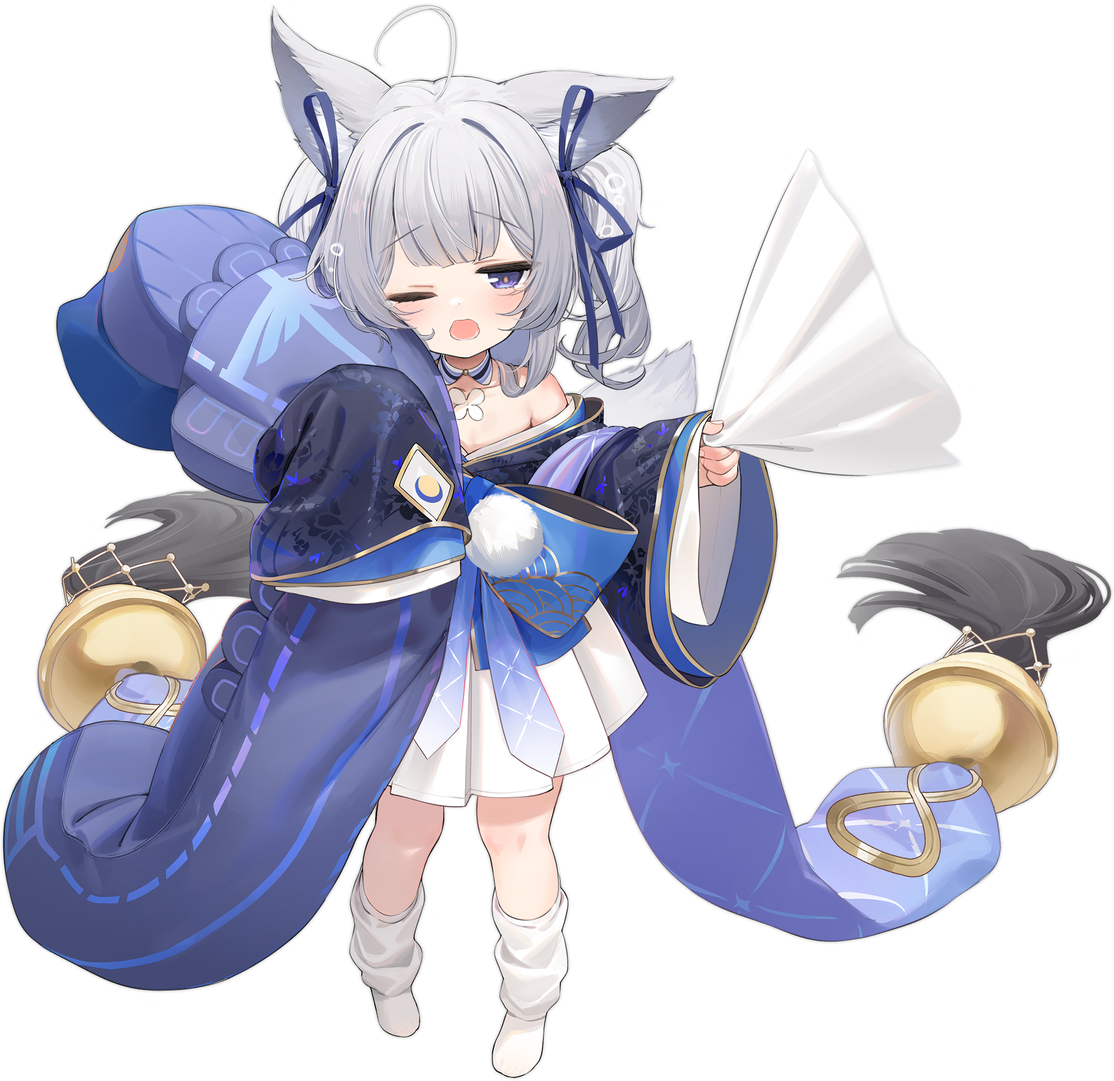person: (2, 0, 1105, 1078)
